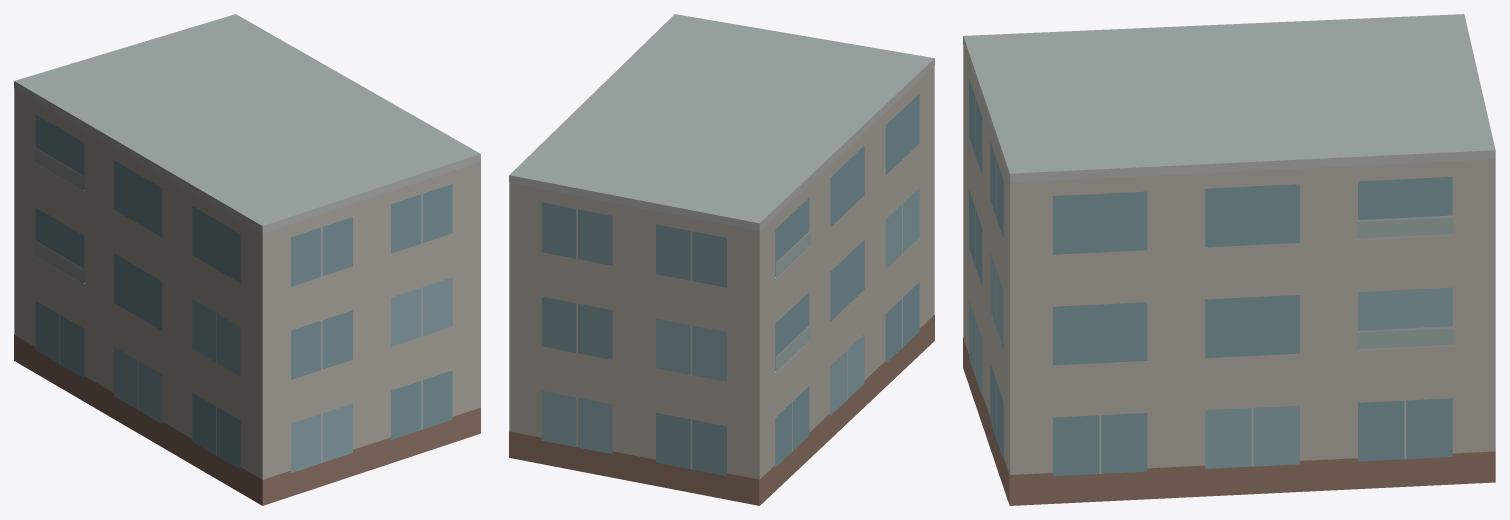
The model's file is survey-upis-32621738.glb.
The picture shows the model from 3 angles, left to right: view 1: azimuth 30°, elevation 25°; view 2: azimuth 150°, elevation 25°; view 3: azimuth 270°, elevation 25°; orthographic projection. The views are drawn at different scales.
Parts seen in each view (by area): view 1: survey-upis-32621738.tmp; view 2: survey-upis-32621738.tmp; view 3: survey-upis-32621738.tmp.
Part boxes in pixels (x1,y1,x2,y2): survey-upis-32621738.tmp: [14, 14, 480, 505]; survey-upis-32621738.tmp: [509, 14, 934, 505]; survey-upis-32621738.tmp: [963, 14, 1495, 505].
Size of the model in its own units: 9.44 by 9.15 by 13.3.
